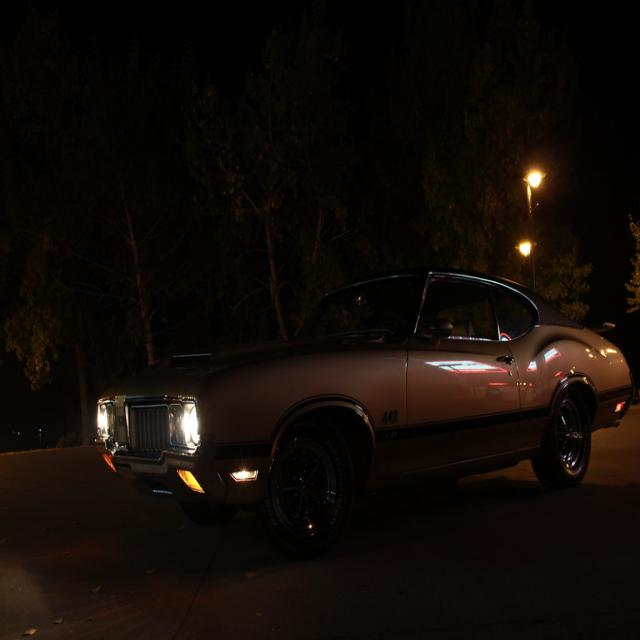Car: (44, 299, 640, 564)
